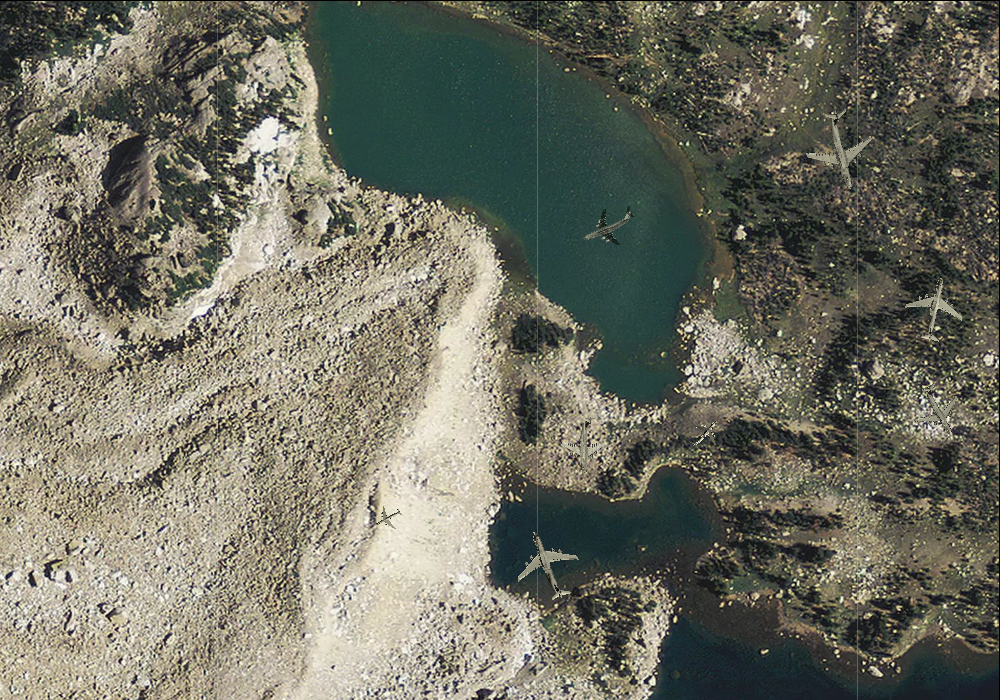plane: (795, 100, 889, 197), (502, 519, 592, 611), (898, 270, 973, 348), (902, 373, 976, 447), (573, 192, 643, 258), (559, 415, 613, 476), (681, 410, 728, 457), (369, 500, 406, 536)
